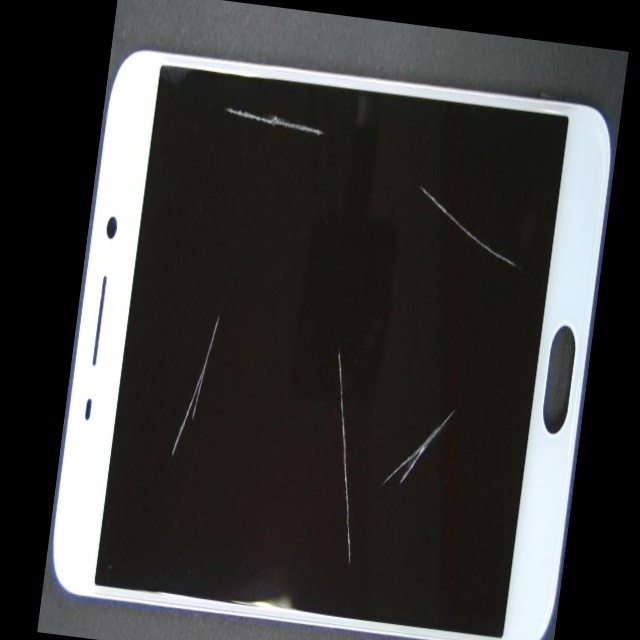scratch: (181, 257, 518, 640)
